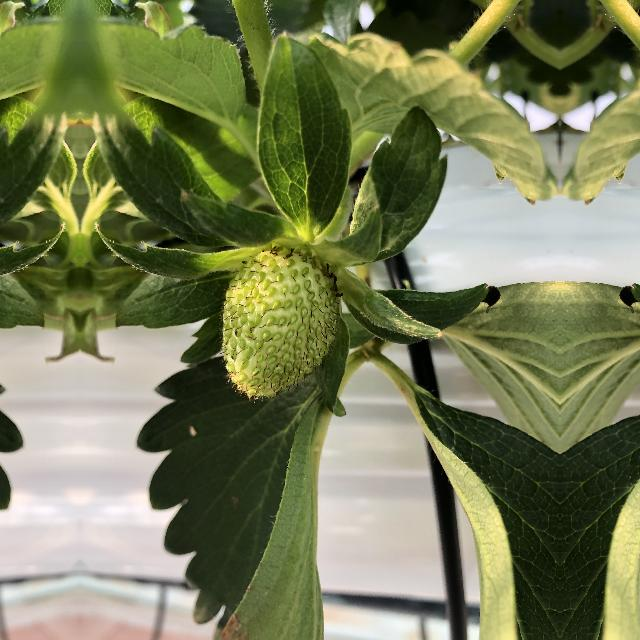Health_25: (220, 243, 346, 402)
